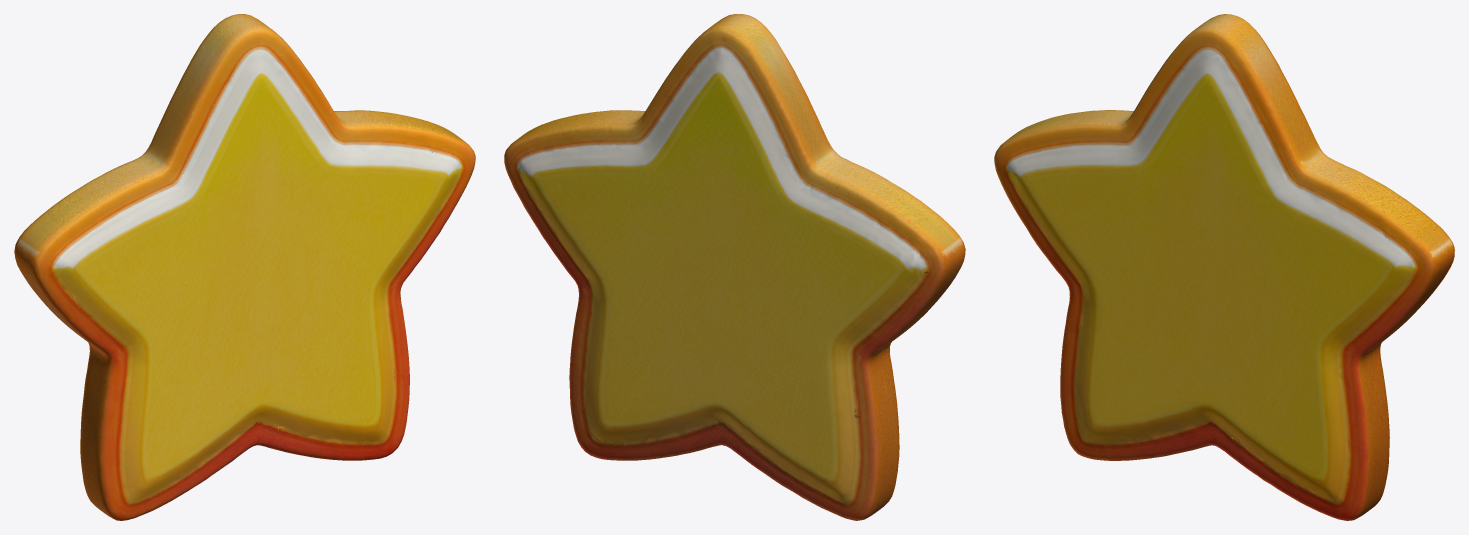
File: Glossy Yellow Star.fbx
The picture shows the model from 3 angles, left to right: view 1: azimuth 30°, elevation 25°; view 2: azimuth 150°, elevation 25°; view 3: azimuth 330°, elevation 25°; orthographic projection.
Visible parts, largest first — view 1: texture_mapping; view 2: texture_mapping; view 3: texture_mapping.
Part boxes in pixels (bbox=[...]): texture_mapping: bbox=[14, 14, 475, 520]; texture_mapping: bbox=[504, 14, 965, 520]; texture_mapping: bbox=[994, 14, 1454, 520].
Size of the model in its own units: 0.9608 by 0.1256 by 0.9575.
Materials: 1 (1 with a texture image).
